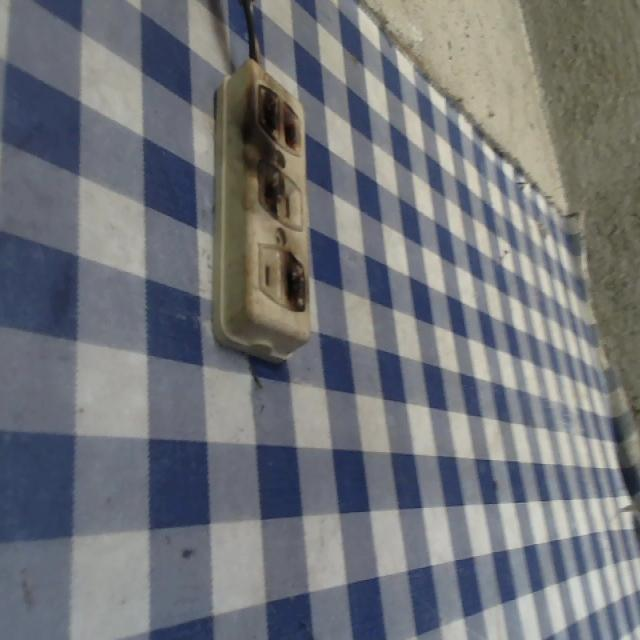-: (255, 77, 307, 156), (281, 249, 305, 311), (256, 161, 281, 215)
